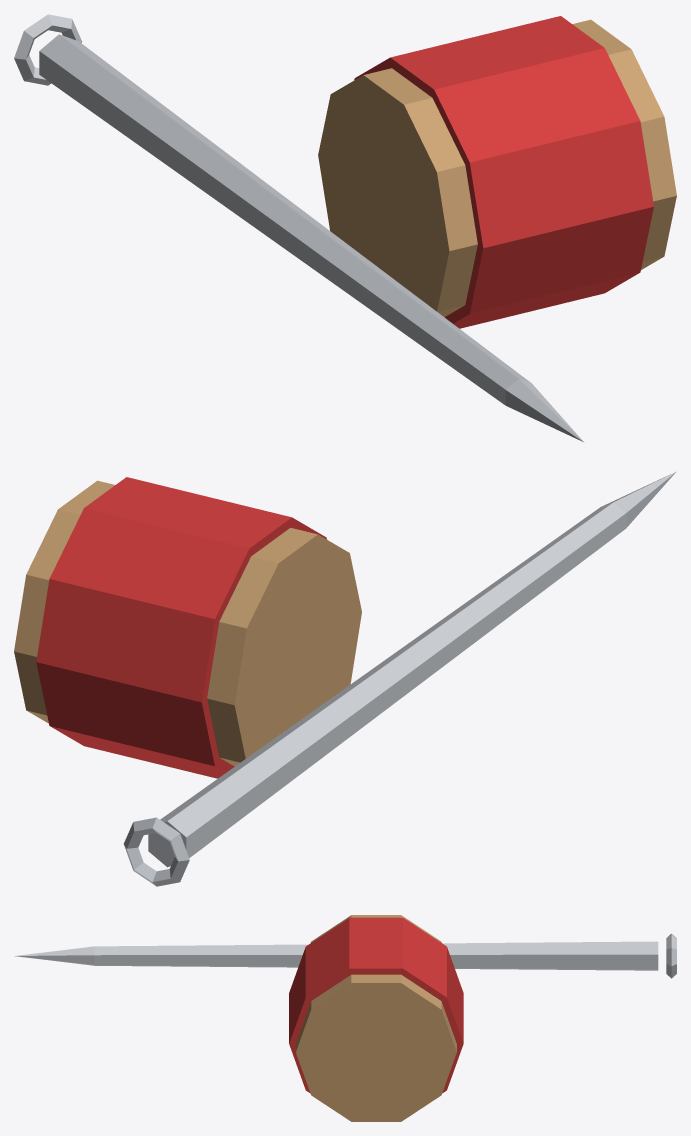
File: fair_needle_thread.glb
3 views of the same model, one above another, from view 1: azimuth 30°, elevation 25°; view 2: azimuth 150°, elevation 25°; view 3: azimuth 270°, elevation 25° (orthographic). The views are drawn at different scales.
Visible parts, largest first — view 1: spool_fair_red, spool_fair_wood, needle_needle_steel; view 2: spool_fair_red, spool_fair_wood, needle_needle_steel; view 3: spool_fair_wood, needle_needle_steel, spool_fair_red.
Part boxes in pixels (x1,y1,x2,y2): spool_fair_red: [354, 16, 653, 328]; spool_fair_wood: [318, 19, 676, 316]; needle_needle_steel: [14, 14, 583, 442]; spool_fair_red: [36, 477, 326, 778]; spool_fair_wood: [14, 480, 361, 766]; needle_needle_steel: [123, 472, 675, 886]; spool_fair_wood: [296, 915, 456, 1121]; needle_needle_steel: [14, 933, 676, 978]; spool_fair_red: [289, 917, 463, 1093].
Size of the model in its own units: 0.188 by 0.1236 by 0.494.
